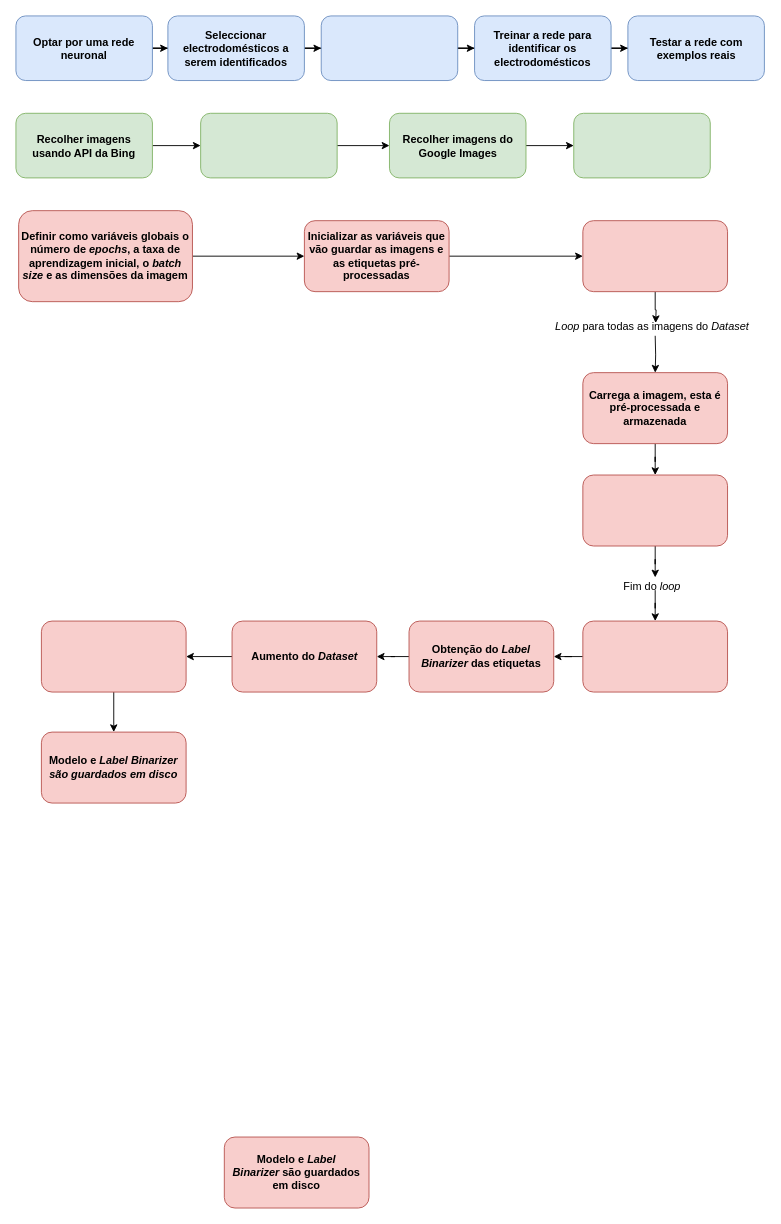
Image size: 781x1224. Some labels were removed from this diagram. The shapes that lost their labels are listed below. From the top down, each one's centre as x and y in pixels, then its label:
the point at 389,48: Popular o Dataset
the point at 268,145: Recolher imagens de sites de venda de eletromésticos
the point at 641,145: Revisão da qualidade das imagens
the point at 655,256: Shuffle das imagens
the point at 655,510: Obtenção da etiqueta da imagem e armazenamento
the point at 113,656: Inicialização do modelo e treino da rede
the point at 655,656: Conversão das imagens e etiquetas para um Numpy Array
